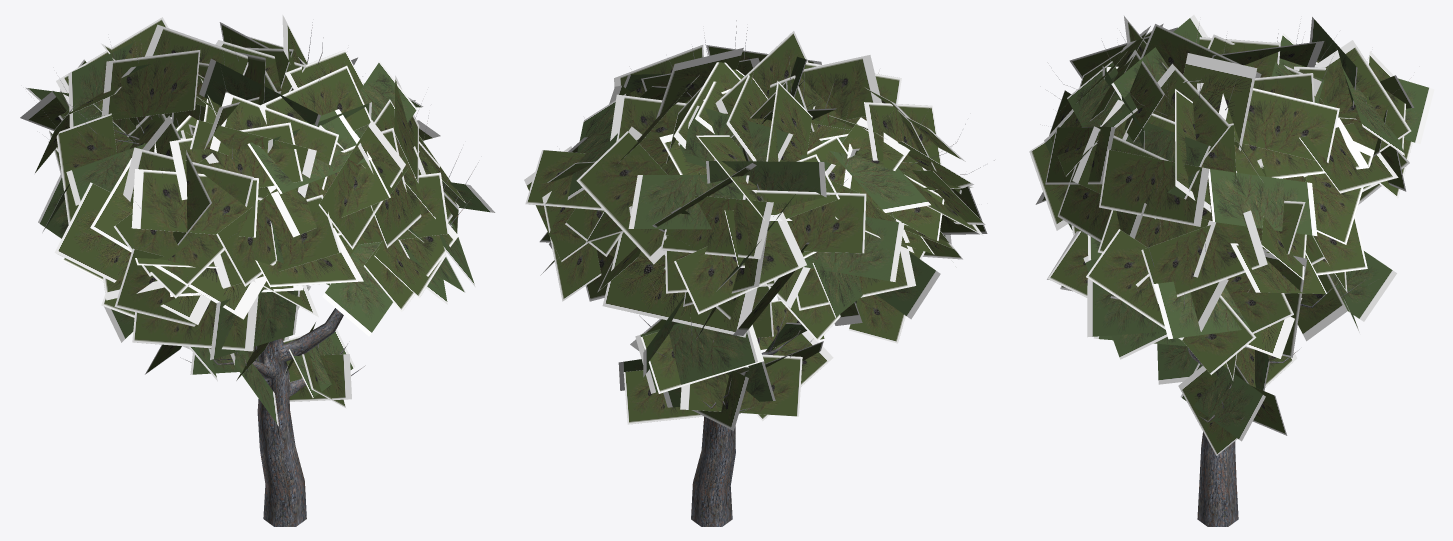
The model's file is tree_conifer1.obj.
3 views of the same model, side by side, from view 1: azimuth 30°, elevation 25°; view 2: azimuth 150°, elevation 25°; view 3: azimuth 270°, elevation 25° (orthographic). The views are drawn at different scales.
Bounding box in the file's own units: 8.99 × 9.67 × 7.61.
